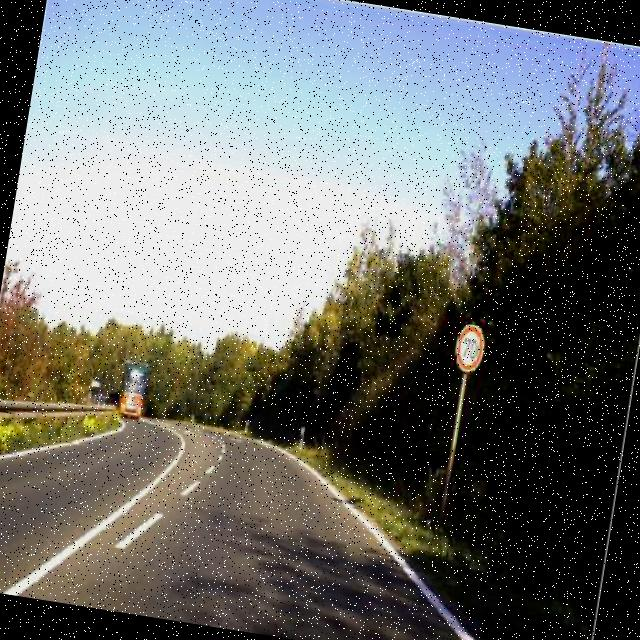Ograniczenie predkosci do 70: (448, 318, 489, 376)
